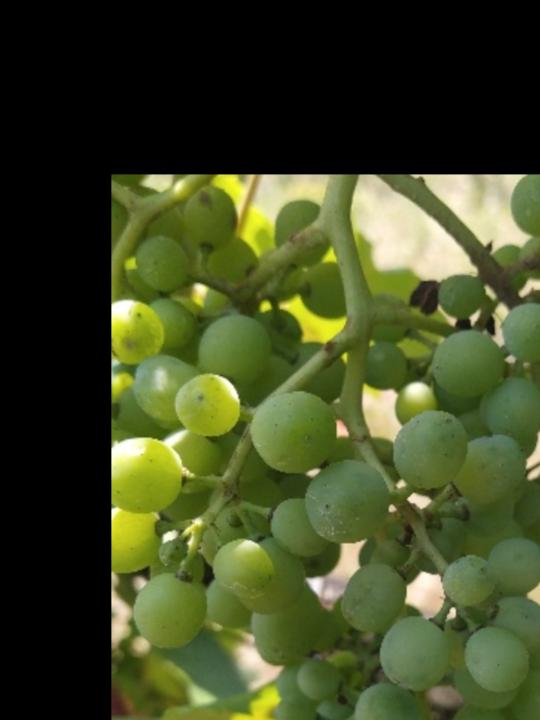grape: (0, 59, 540, 720)
